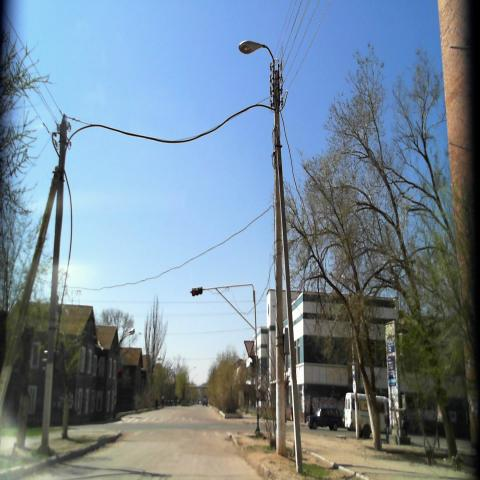2_4: (243, 340, 255, 359)
